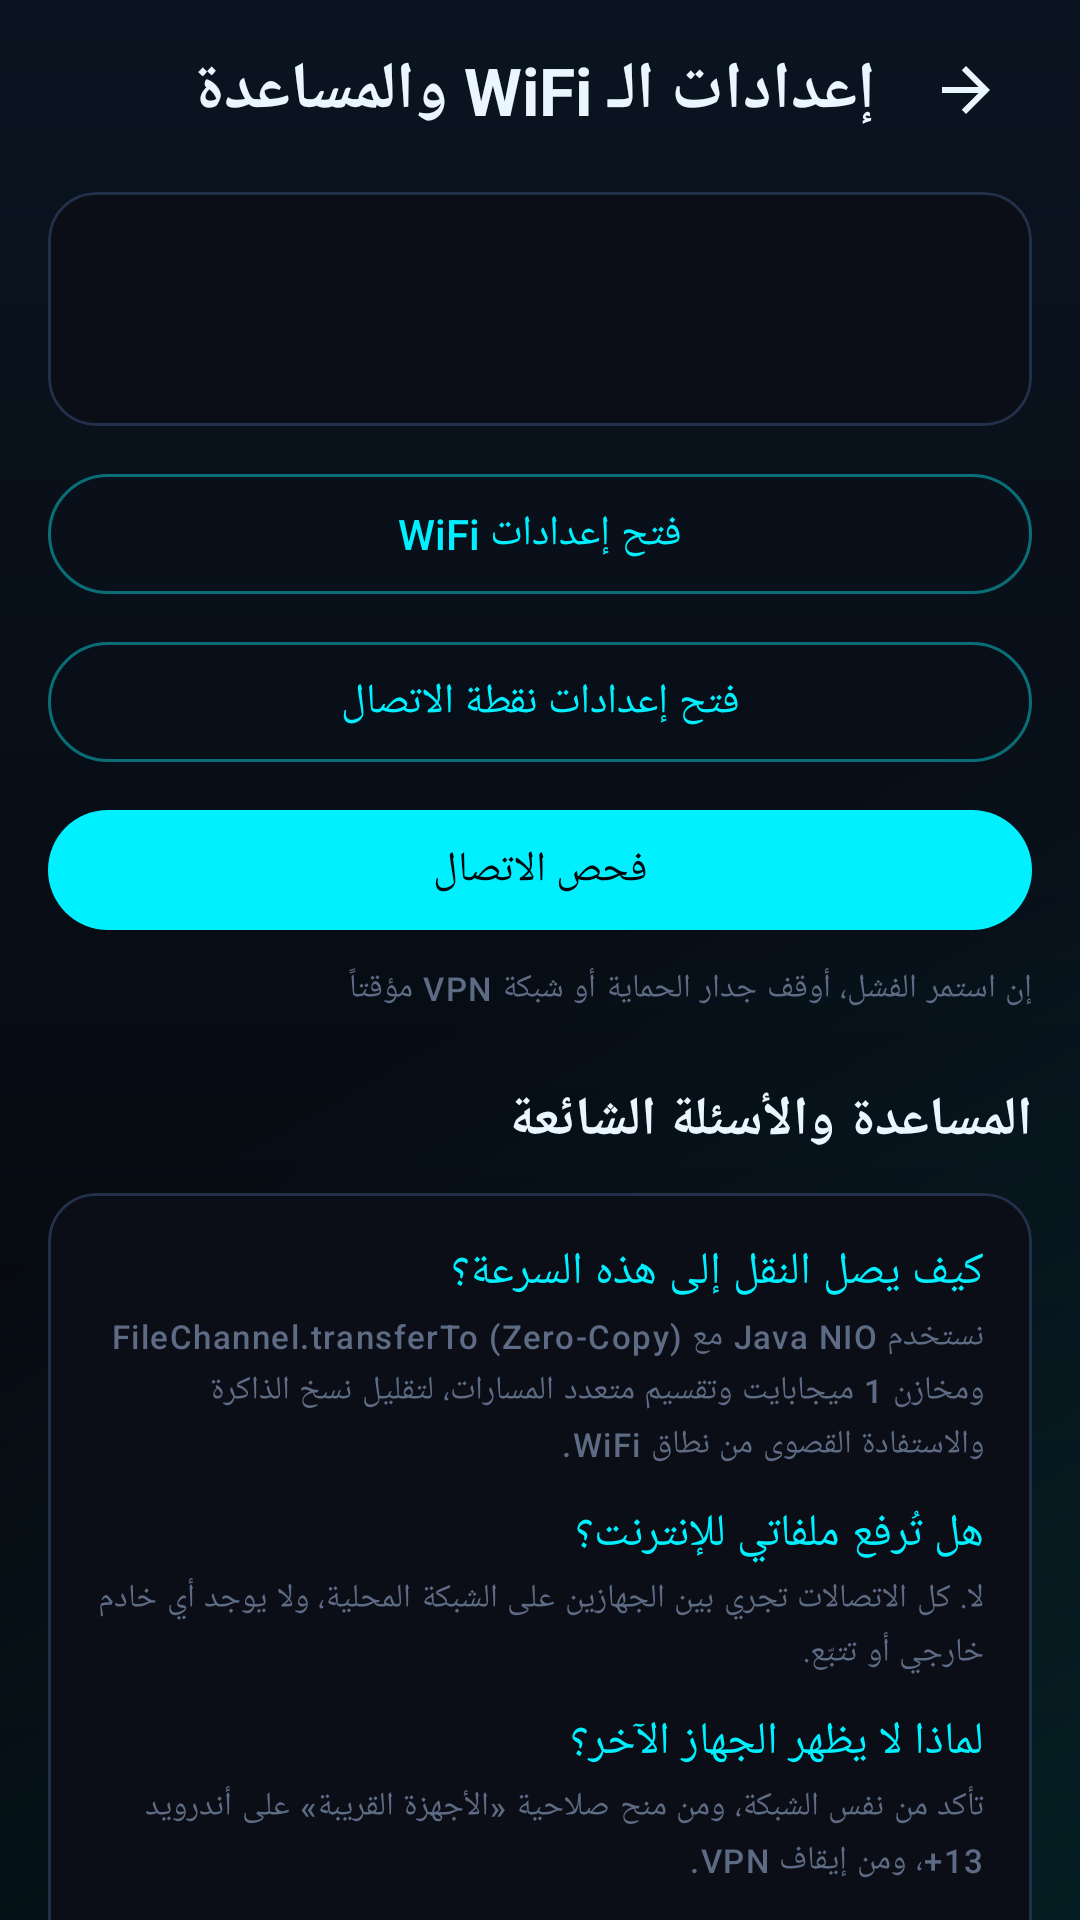

Where to tap for icons on this 1080px×1920px app screen, as [x,y]:
رجوع: [966,90]
